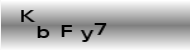7: (93, 21, 107, 35)
F: (60, 24, 72, 38)
K: (20, 9, 35, 23)
b: (36, 25, 49, 39)
y: (80, 29, 93, 42)
